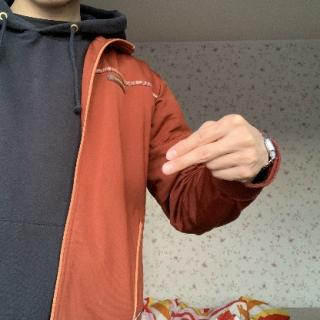AYN: (159, 110, 271, 186)
